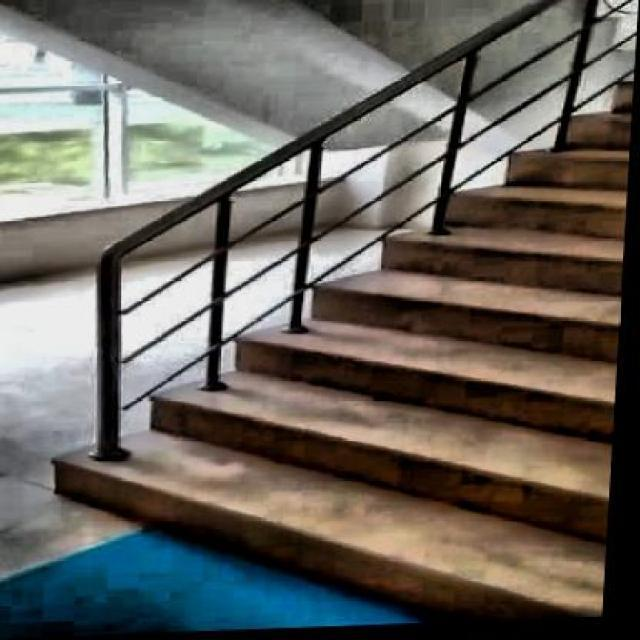stair: (0, 11, 637, 638)
